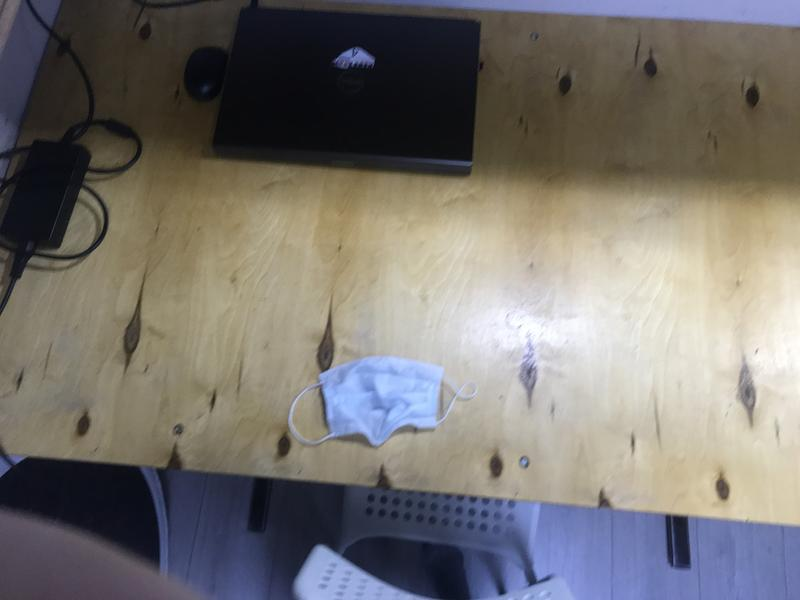medical_mask: (288, 355, 479, 442)
